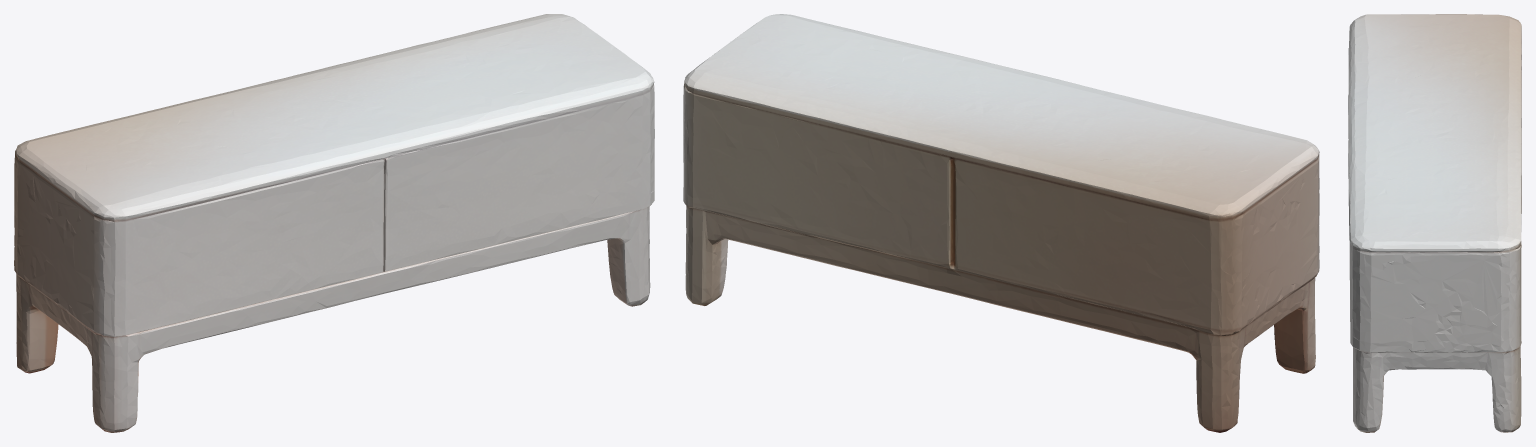
3 views of the same model, side by side, from view 1: azimuth 30°, elevation 25°; view 2: azimuth 150°, elevation 25°; view 3: azimuth 270°, elevation 25° (orthographic). The views are drawn at different scales.
Visible parts, largest first — view 1: world; view 2: world; view 3: world.
Part boxes in pixels (<box>): world: <box>14,14,654,432</box>; world: <box>683,14,1319,432</box>; world: <box>1348,14,1521,432</box>.
Size of the model in its own units: 1 by 0.3901 by 0.3139.
1 material, 1 textured.
